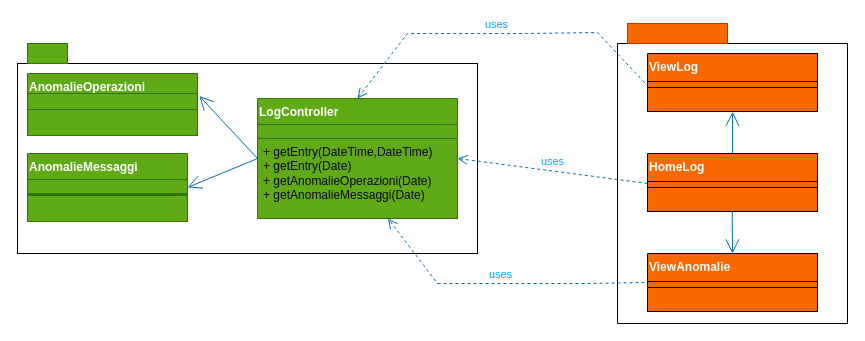
Some shapes in this 865 by 341 pixel diagram are drawn without their labels. The shapes that lost their labels are listed below. From the top down, each one's centre as x and y in pixels, then its label:
At point (47, 53): "Log".
At point (677, 33): "InterfacciaLog".
At point (112, 122): "+ scanOperazioni(Date)".
At point (107, 208): "+ scanMessaggi(Date)".
